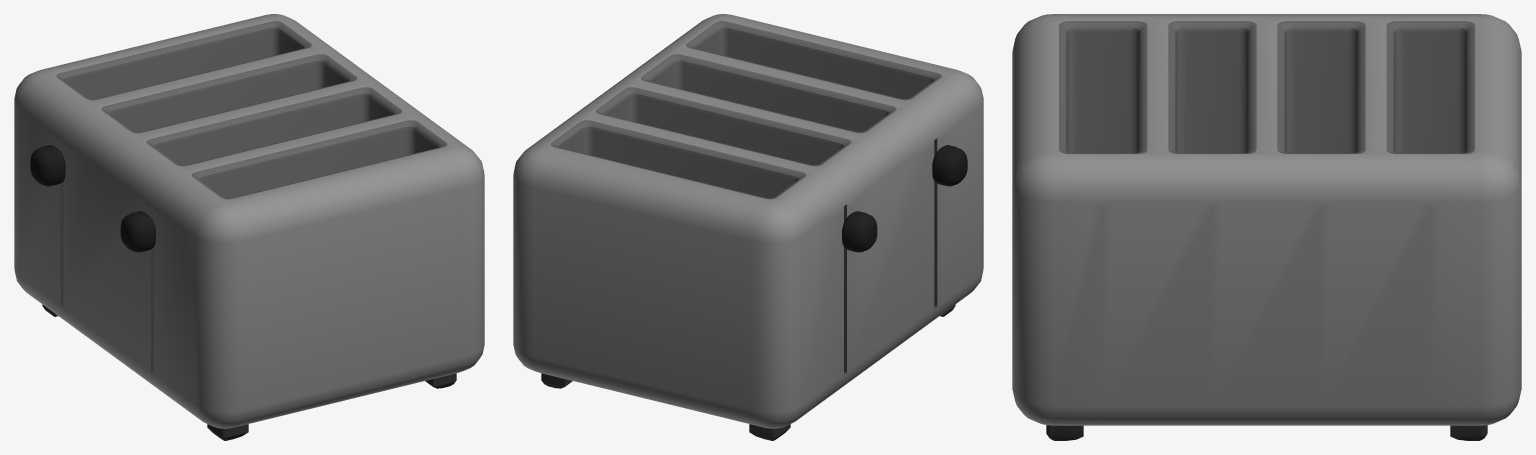
Rendered from Toaster.fbx.
The picture shows the model from 3 angles, left to right: view 1: azimuth 30°, elevation 25°; view 2: azimuth 150°, elevation 25°; view 3: azimuth 270°, elevation 25°; orthographic projection. The views are drawn at different scales.
Visible parts, largest first — view 1: Toaster; view 2: Toaster; view 3: Toaster.
Boxes of the visible parts, bbox=[...] form: Toaster: bbox=[14, 14, 484, 440]; Toaster: bbox=[513, 14, 983, 440]; Toaster: bbox=[1012, 14, 1521, 440].
Size of the model in its own units: 43.3 by 31.65 by 50.72.
